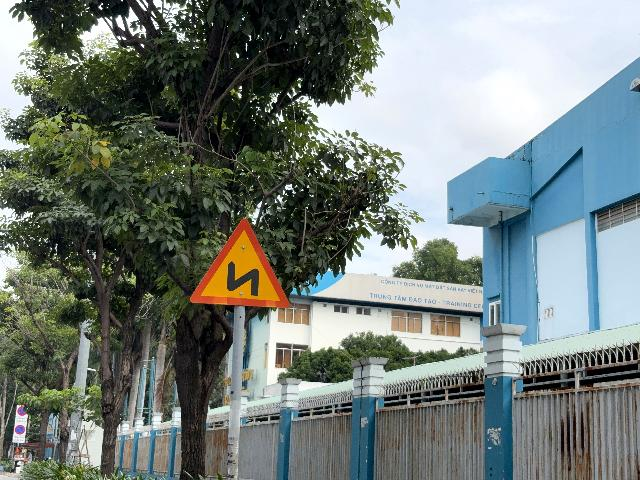nhieu-cho-ngoat-nguy-hiem-lien-tiep: (190, 217, 290, 308)
